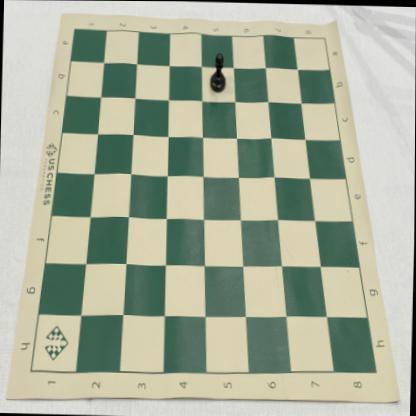black-pawn: (209, 52, 227, 92)
